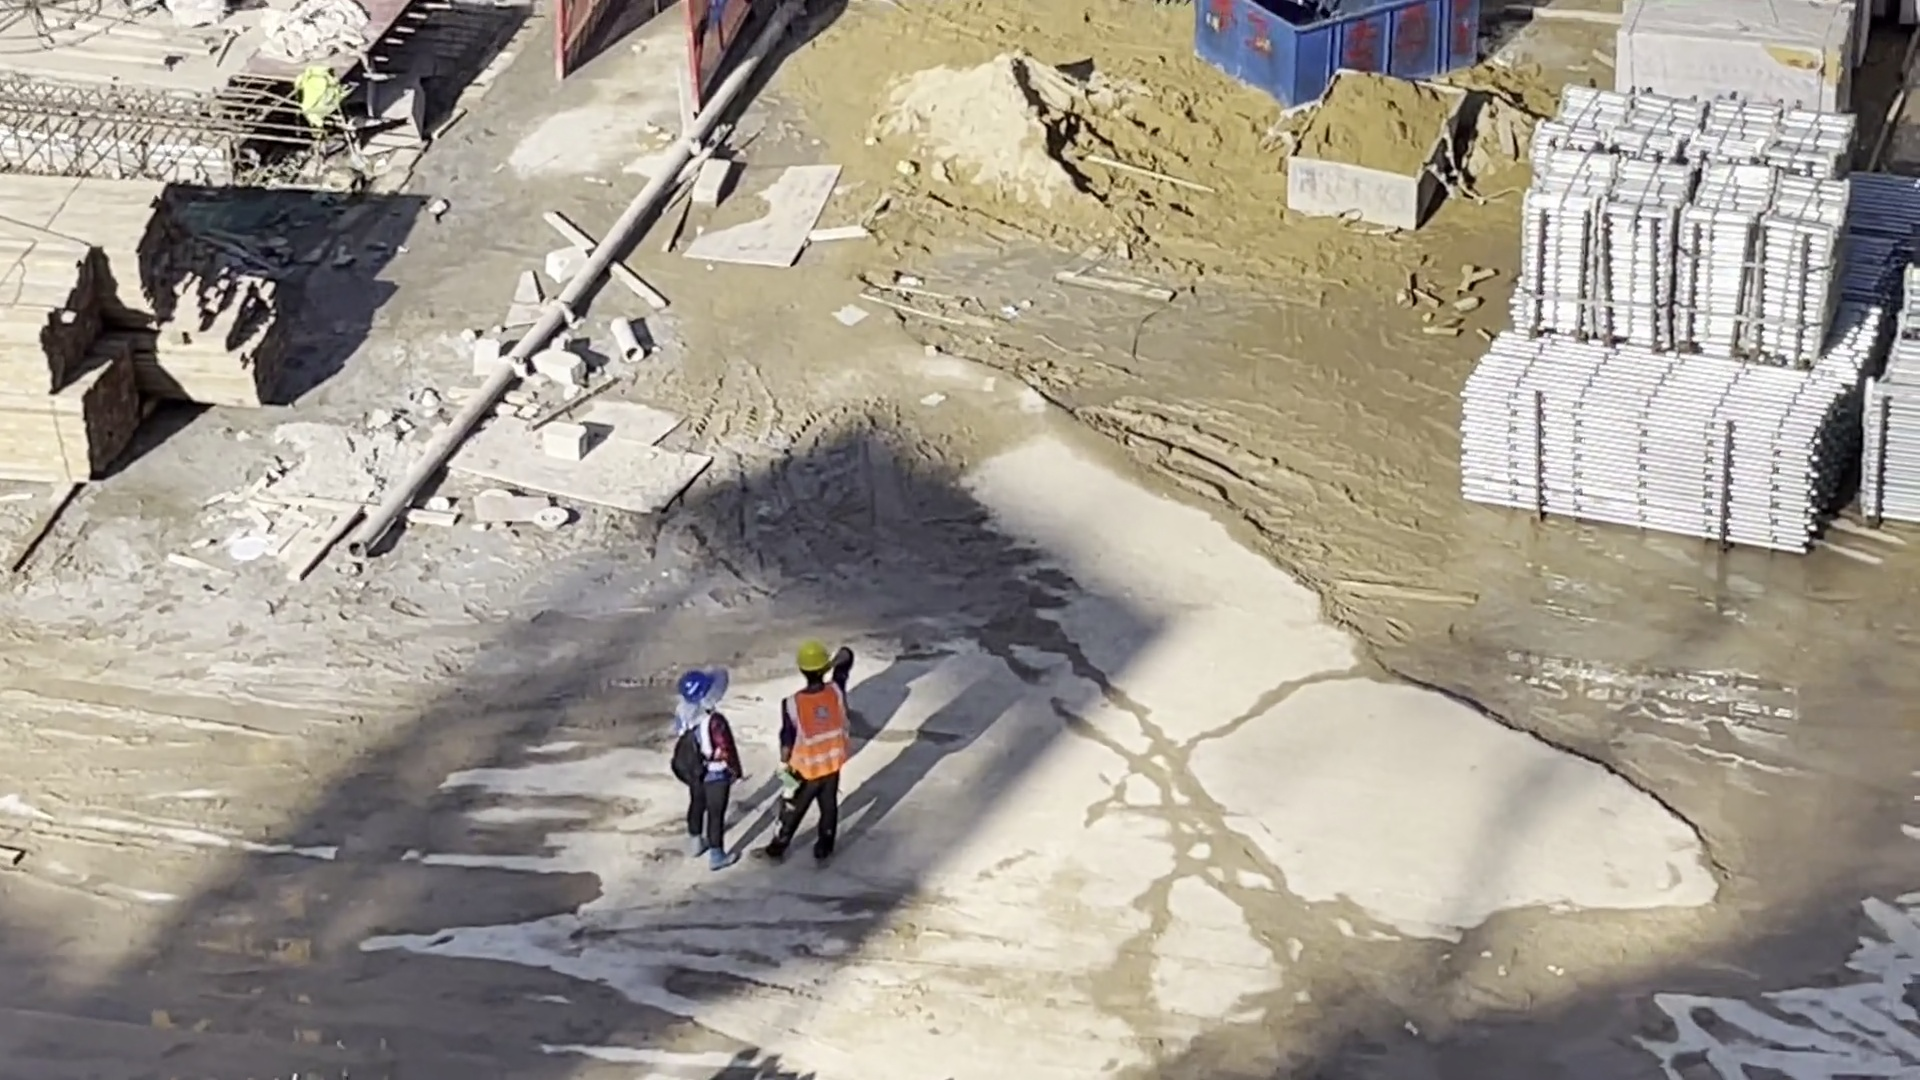fence: (566, 4, 755, 91)
helmet: (679, 672, 714, 702), (796, 643, 829, 669)
hopper: (1194, 1, 1481, 107), (1286, 72, 1470, 231)
person: (773, 645, 848, 866), (674, 665, 742, 868)
scaffold: (1469, 330, 1850, 556), (1524, 97, 1843, 360), (1867, 265, 1920, 527)
vest: (783, 691, 844, 776), (682, 712, 724, 769)
wood: (1, 165, 179, 466)
